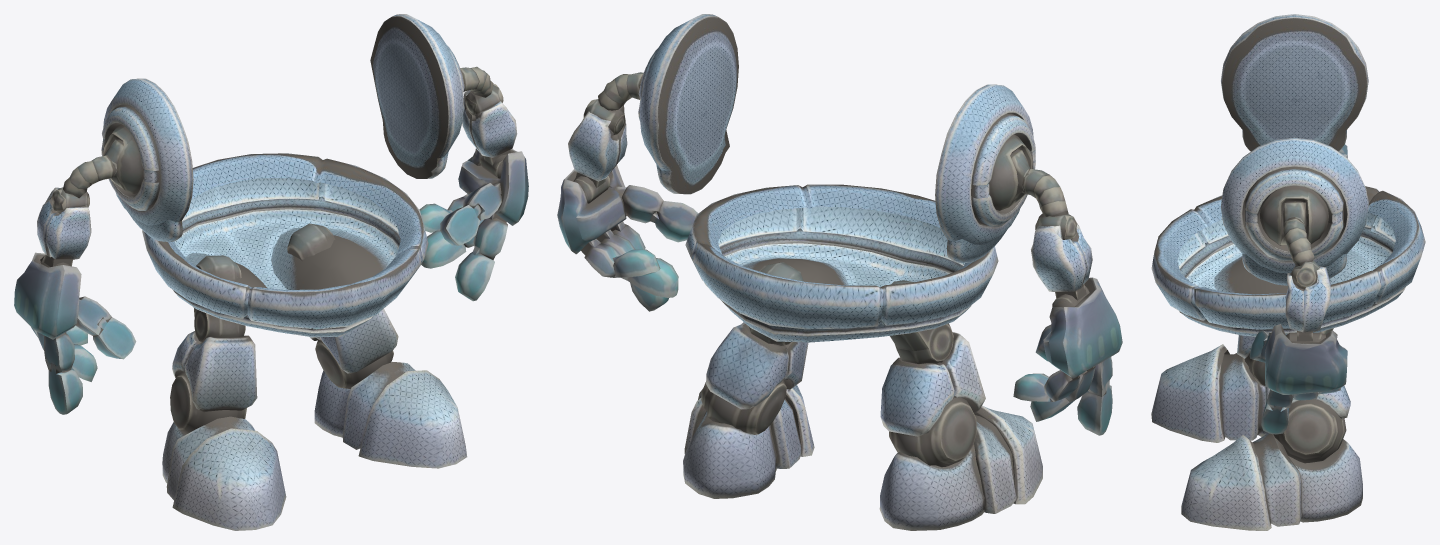
File: ARM1_Exo_BA01.glb
3 renders of one model, left to right at view 1: azimuth 30°, elevation 25°; view 2: azimuth 150°, elevation 25°; view 3: azimuth 270°, elevation 25°, orthographic. The views are drawn at different scales.
Visible parts, largest first — view 1: ARM1_Exo_BA01; view 2: ARM1_Exo_BA01; view 3: ARM1_Exo_BA01.
Boxes of the visible parts, x1,y1,x2,y2 form: ARM1_Exo_BA01: (14, 14, 528, 530); ARM1_Exo_BA01: (557, 14, 1122, 530); ARM1_Exo_BA01: (1151, 14, 1425, 530).
Bounding box in the file's own units: 1.32 × 1.02 × 0.6612.
Materials: 1 (1 with a texture image).
